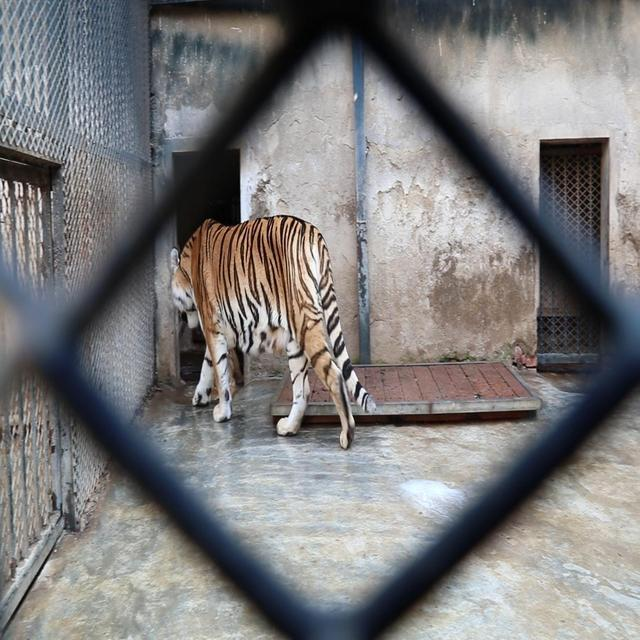tiger: (169, 213, 378, 450)
